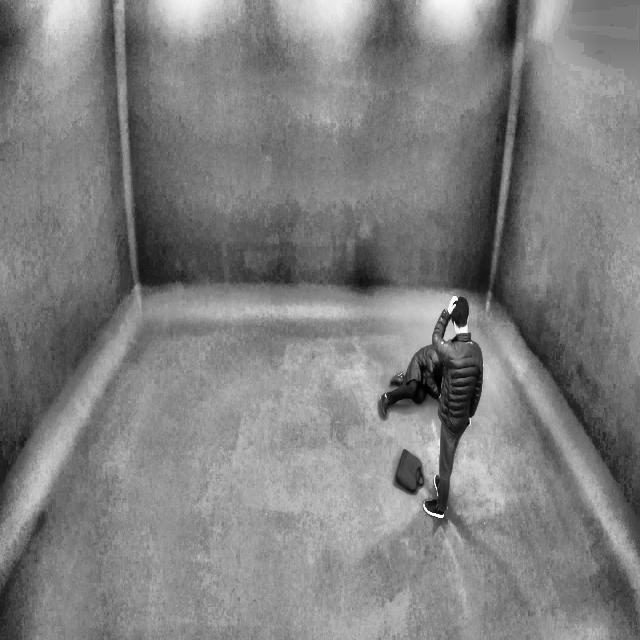assult: (374, 287, 491, 529)
